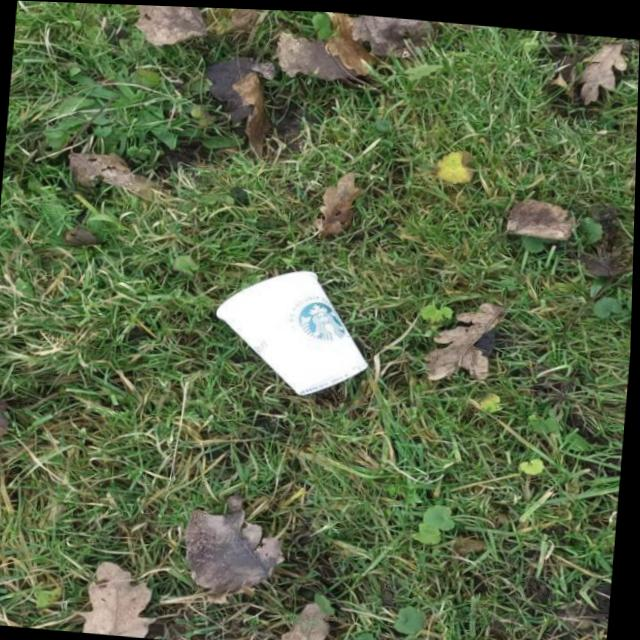Cup: (202, 254, 378, 403)
